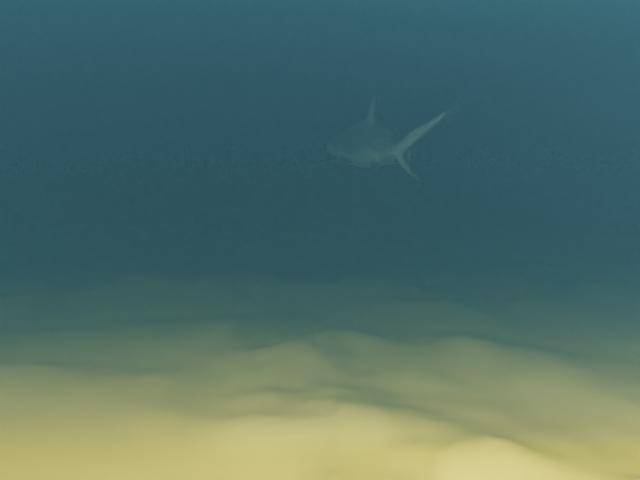Carribean Shark.001: (299, 93, 456, 182)
